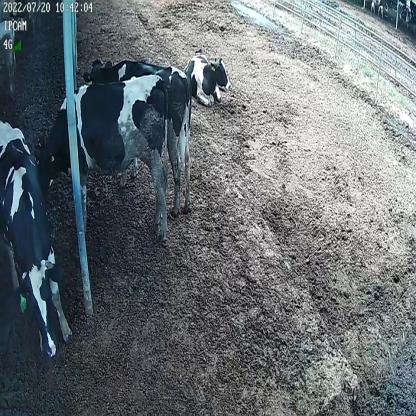cow: (36, 70, 171, 244), (0, 115, 74, 364), (83, 53, 194, 218), (182, 50, 232, 105)
